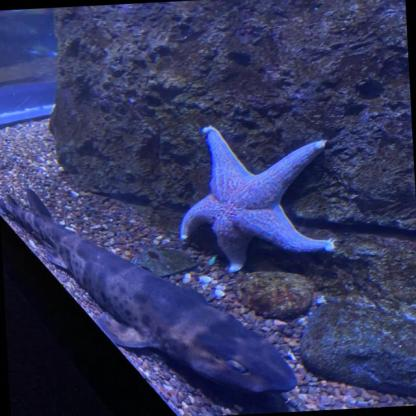shark: (0, 174, 296, 406)
starfish: (174, 120, 336, 275)
